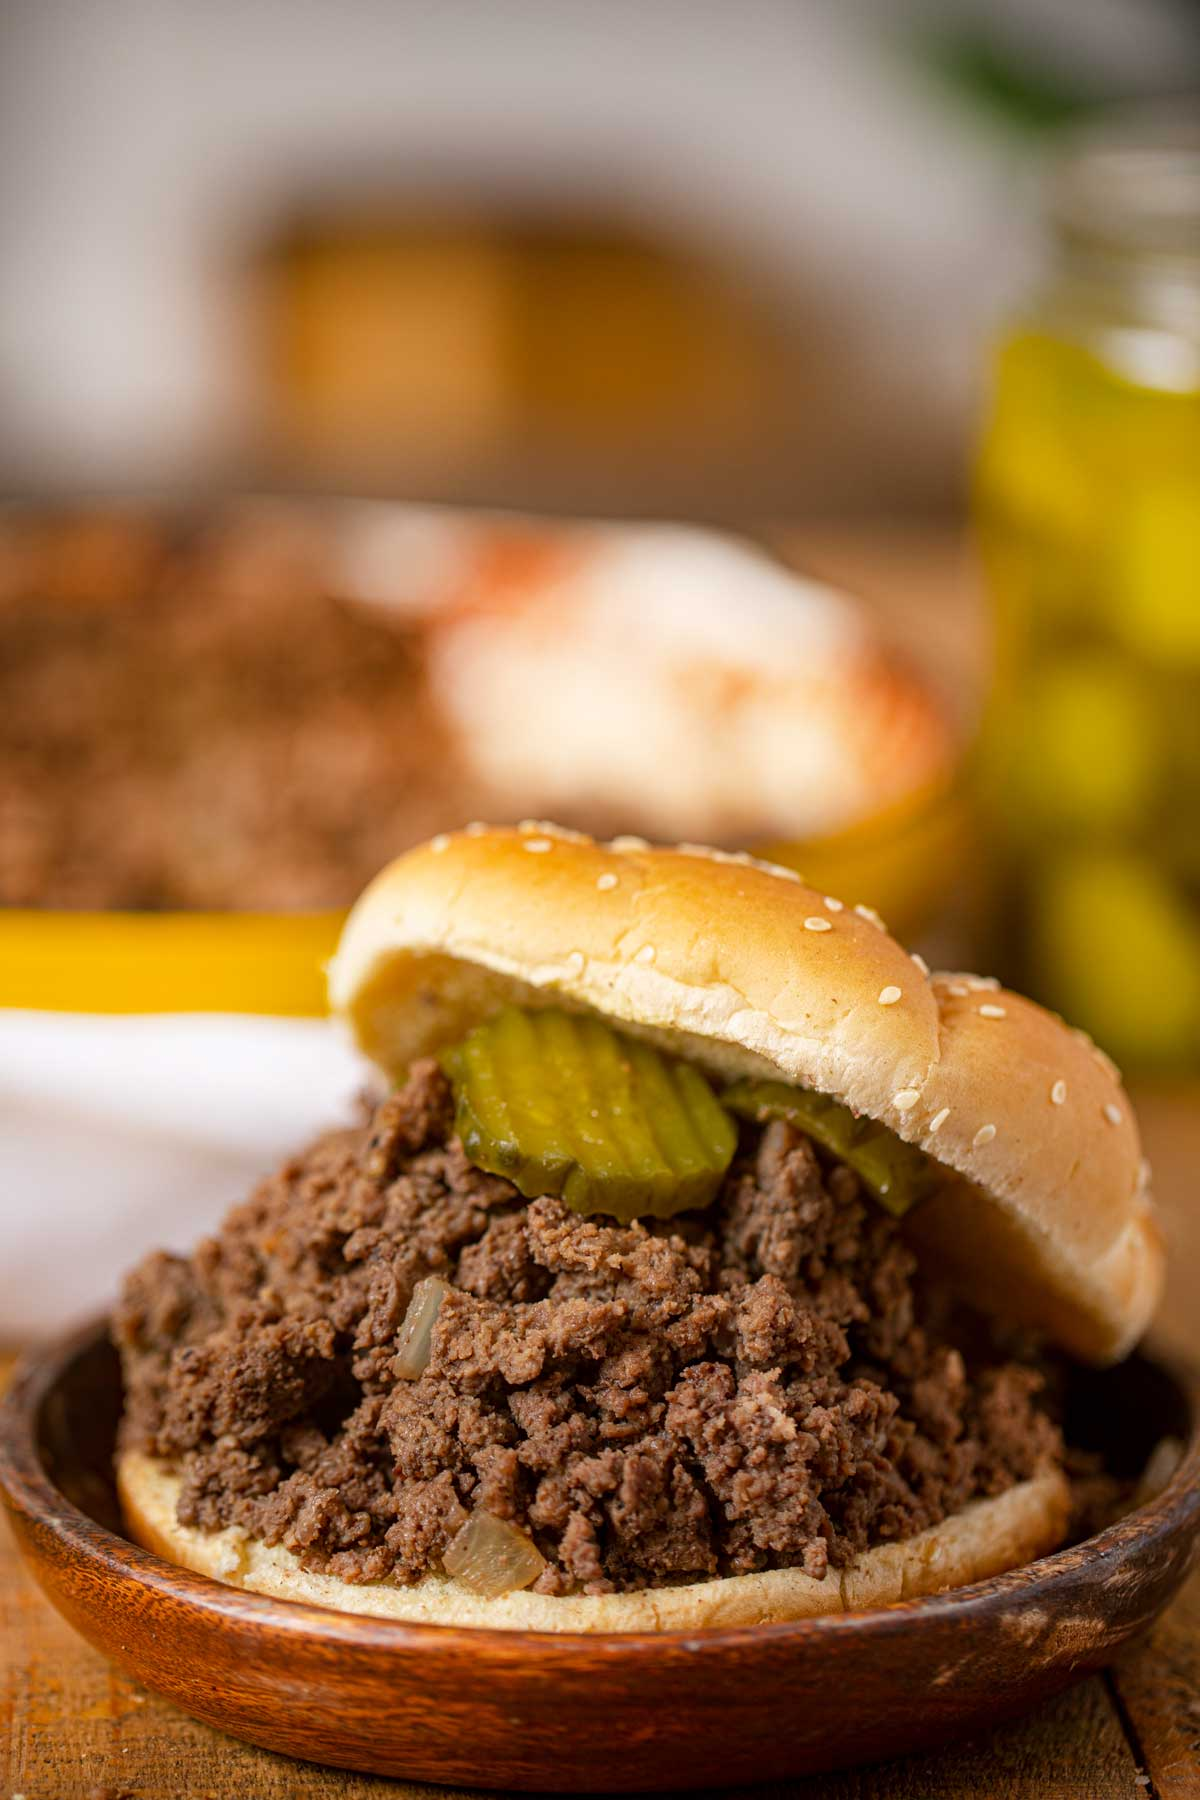hamburger_buns: (262, 741, 1192, 1412)
